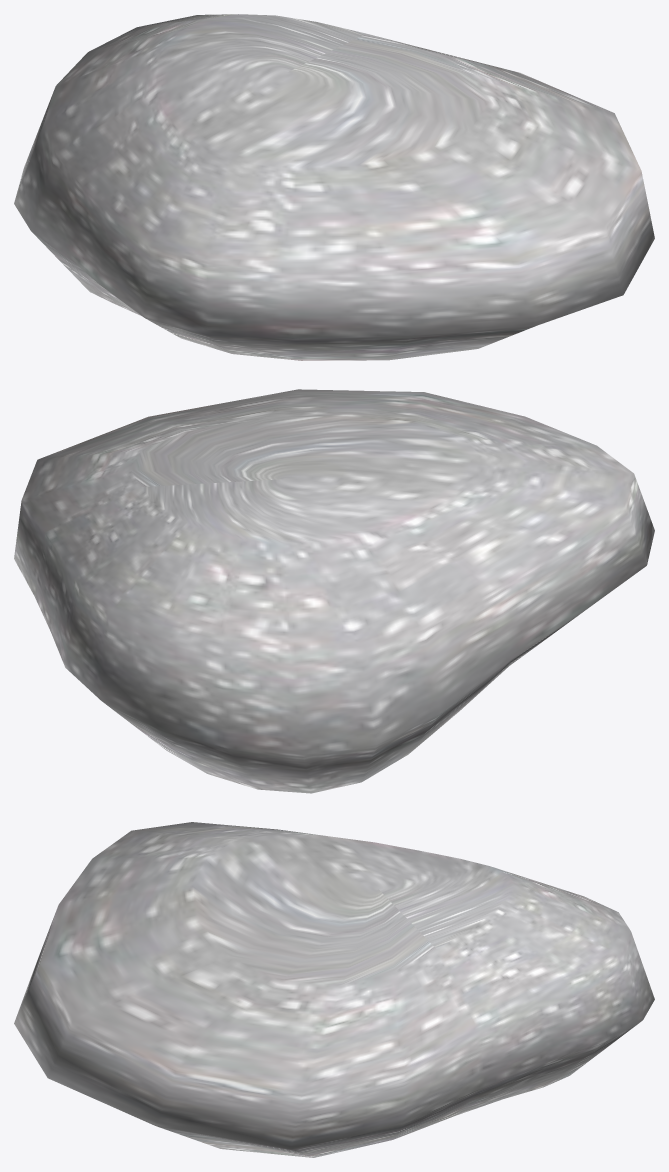
File: Rock_D.fbx
The picture shows the model from 3 angles, top to bottom: view 1: azimuth 30°, elevation 25°; view 2: azimuth 150°, elevation 25°; view 3: azimuth 270°, elevation 25°; orthographic projection. The views are drawn at different scales.
Parts seen in each view (by area): view 1: pSphere5; view 2: pSphere5; view 3: pSphere5.
Boxes of the visible parts, <box> form: pSphere5: <box>14,14,654,360</box>; pSphere5: <box>14,389,654,793</box>; pSphere5: <box>14,822,654,1157</box>.
Size of the model in its own units: 4.75 by 1.84 by 5.27.
Materials: 1 (1 with a texture image).
